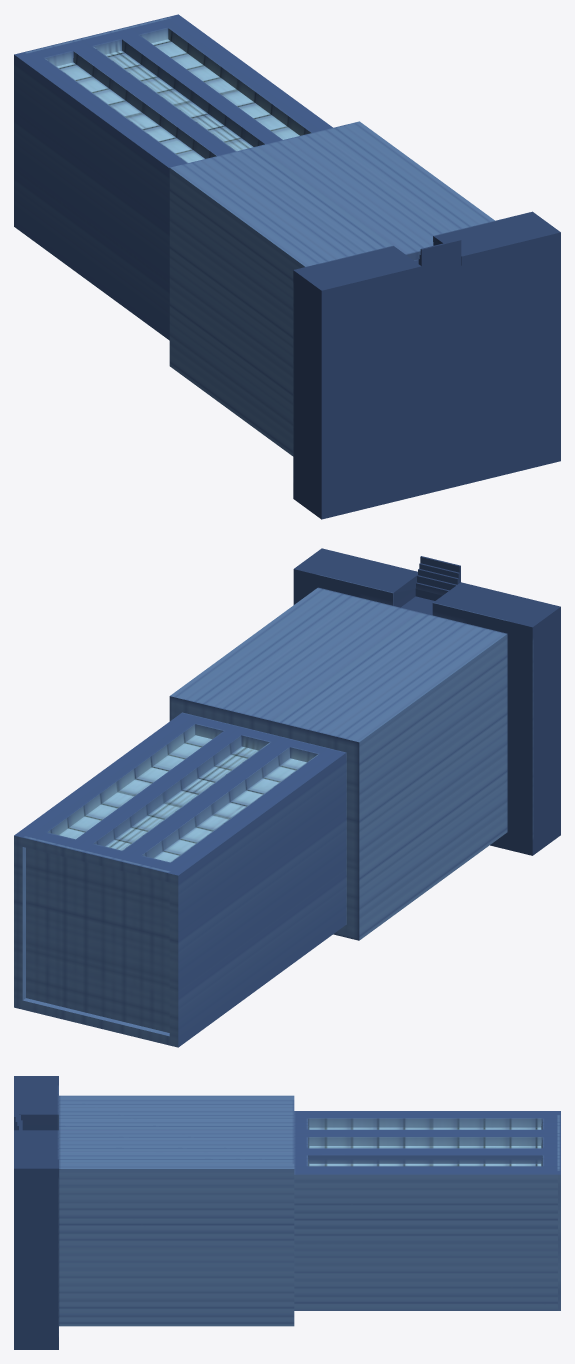
File: buildings-comercial-01.obj
The picture shows the model from 3 angles, top to bottom: view 1: azimuth 30°, elevation 25°; view 2: azimuth 150°, elevation 25°; view 3: azimuth 270°, elevation 25°; orthographic projection. The views are drawn at different scales.
Parts seen in each view (by area): view 1: buildings-comercial-01_Cube.030; view 2: buildings-comercial-01_Cube.030; view 3: buildings-comercial-01_Cube.030.
Part boxes in pixels (bbox=[...]): buildings-comercial-01_Cube.030: bbox=[14, 14, 560, 519]; buildings-comercial-01_Cube.030: bbox=[14, 548, 560, 1047]; buildings-comercial-01_Cube.030: bbox=[14, 1076, 560, 1349].
Bounding box in the file's own units: 3.89 × 3.81 × 9.72.
